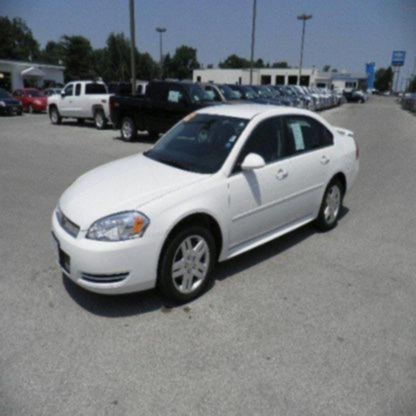Vehicle: (50, 105, 361, 304)
